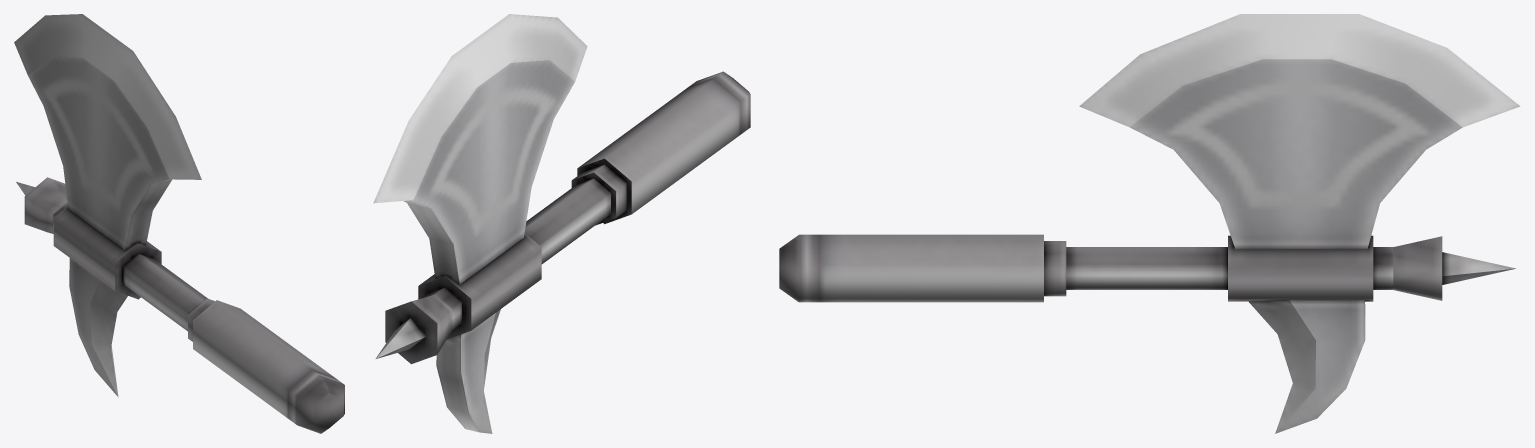
Rendered from axe011.fbx.
3 views of the same model, side by side, from view 1: azimuth 30°, elevation 25°; view 2: azimuth 150°, elevation 25°; view 3: azimuth 270°, elevation 25° (orthographic). The views are drawn at different scales.
Parts seen in each view (by area): view 1: axe011; view 2: axe011; view 3: axe011.
Boxes of the visible parts, x1,y1,x2,y2 form: axe011: (14,14,344,433); axe011: (373,14,750,433); axe011: (779,14,1520,433).
Bounding box in the file's own units: 0.0446 × 0.3192 × 0.5107.
